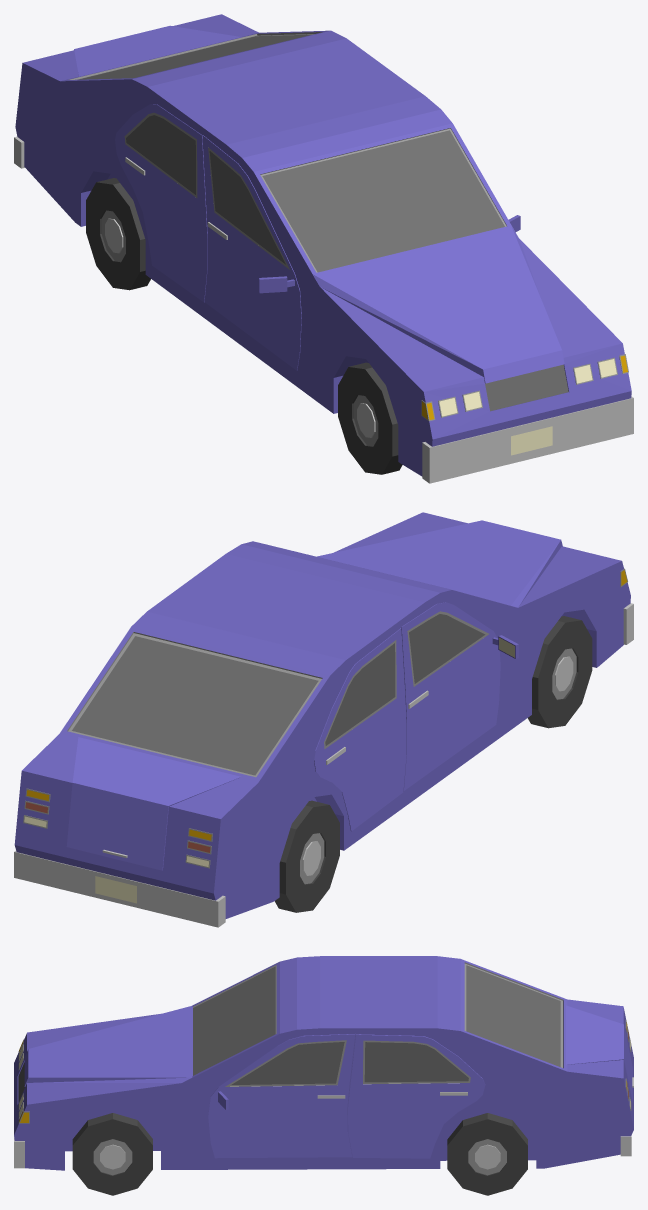
Rendered from vintage car_2.fbx.
3 views of the same model, one above another, from view 1: azimuth 30°, elevation 25°; view 2: azimuth 150°, elevation 25°; view 3: azimuth 270°, elevation 25° (orthographic). The views are drawn at different scales.
Parts seen in each view (by area): view 1: utrbn, Cylinder_2_1, Cylinder_2_9; view 2: utrbn, Cylinder_2_9, Cylinder_2_1; view 3: utrbn, Cylinder_2_8, Cylinder_2.
Boxes of the visible parts, <box> form: utrbn: <box>14,14,633,483</box>; Cylinder_2_1: <box>338,362,402,474</box>; Cylinder_2_9: <box>86,178,150,290</box>; utrbn: <box>14,512,633,927</box>; Cylinder_2_9: <box>274,800,339,912</box>; Cylinder_2_1: <box>528,616,592,728</box>; utrbn: <box>14,956,633,1170</box>; Cylinder_2_8: <box>447,1113,527,1195</box>; Cylinder_2: <box>72,1113,152,1195</box>.
Bounding box in the file's own units: 169 × 139 × 468.
